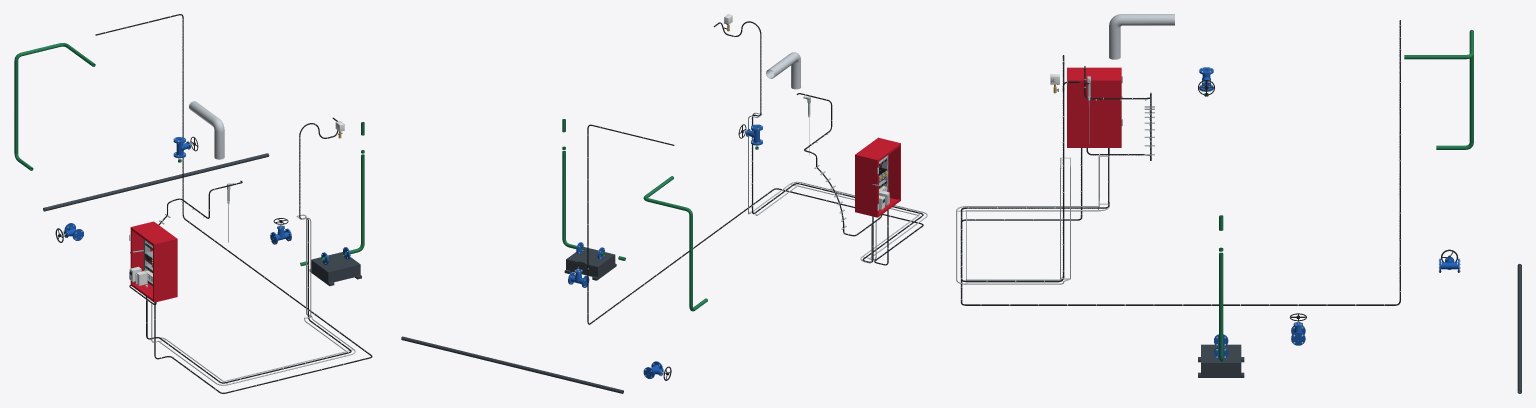
3 views of the same model, side by side, from view 1: azimuth 30°, elevation 25°; view 2: azimuth 150°, elevation 25°; view 3: azimuth 270°, elevation 25° (orthographic). The views are drawn at different scales.
Visible parts, largest first — view 1: control_cabinet / control_cabinet_0.npz, mod_eco_drive_cable / black, cables / zinc, pump_branch_1 / dark, wiring_pressure_switch_3 / black, bottom_discharge / dark, from_economizer / green, steam_rise / steel, pump_branch_1 / green, cabinet_interior / cabinet_interior_0.npz, drain_isolation_1 / drain_isolation_1_0.npz; view 2: control_cabinet / control_cabinet_0.npz, mod_eco_drive_cable / black, cables / zinc, pump_branch_1 / dark, bottom_discharge / dark, wiring_pressure_switch_3 / black, from_economizer / green, steam_rise / steel, pump_branch_1 / green; view 3: control_cabinet / control_cabinet_0.npz, mod_eco_drive_cable / black, cables / zinc, wiring_pressure_switch_3 / black, pump_branch_1 / dark, steam_rise / steel, from_economizer / green, bottom_discharge / dark, pump_branch_1 / green.
Part boxes in pixels (box(x1,y1,x2,y2)): control_cabinet / control_cabinet_0.npz: box(129, 221, 177, 302); mod_eco_drive_cable / black: box(95, 14, 372, 393); cables / zinc: box(147, 214, 355, 385); pump_branch_1 / dark: box(309, 252, 361, 286); wiring_pressure_switch_3 / black: box(146, 117, 351, 383); bottom_discharge / dark: box(43, 153, 269, 211); from_economizer / green: box(14, 43, 95, 170); steam_rise / steel: box(189, 101, 224, 159); pump_branch_1 / green: box(300, 122, 364, 266); cabinet_interior / cabinet_interior_0.npz: box(130, 239, 152, 286); drain_isolation_1 / drain_isolation_1_0.npz: box(55, 223, 83, 242); control_cabinet / control_cabinet_0.npz: box(855, 137, 900, 217); mod_eco_drive_cable / black: box(587, 124, 923, 324); cables / zinc: box(748, 112, 927, 263); pump_branch_1 / dark: box(564, 247, 616, 280); bottom_discharge / dark: box(401, 336, 623, 393); wiring_pressure_switch_3 / black: box(713, 21, 923, 262); from_economizer / green: box(643, 176, 707, 311); steam_rise / steel: box(766, 52, 800, 89); pump_branch_1 / green: box(562, 119, 625, 260); control_cabinet / control_cabinet_0.npz: box(1067, 67, 1122, 147); mod_eco_drive_cable / black: box(960, 20, 1400, 305); cables / zinc: box(956, 156, 1109, 284); wiring_pressure_switch_3 / black: box(960, 55, 1109, 282); pump_branch_1 / dark: box(1198, 344, 1244, 377); steam_rise / steel: box(1109, 14, 1174, 59); from_economizer / green: box(1404, 30, 1473, 149); bottom_discharge / dark: box(1517, 264, 1521, 393); pump_branch_1 / green: box(1219, 215, 1223, 361).
Size of the model in its own units: 4.05 by 2.82 by 5.5.
